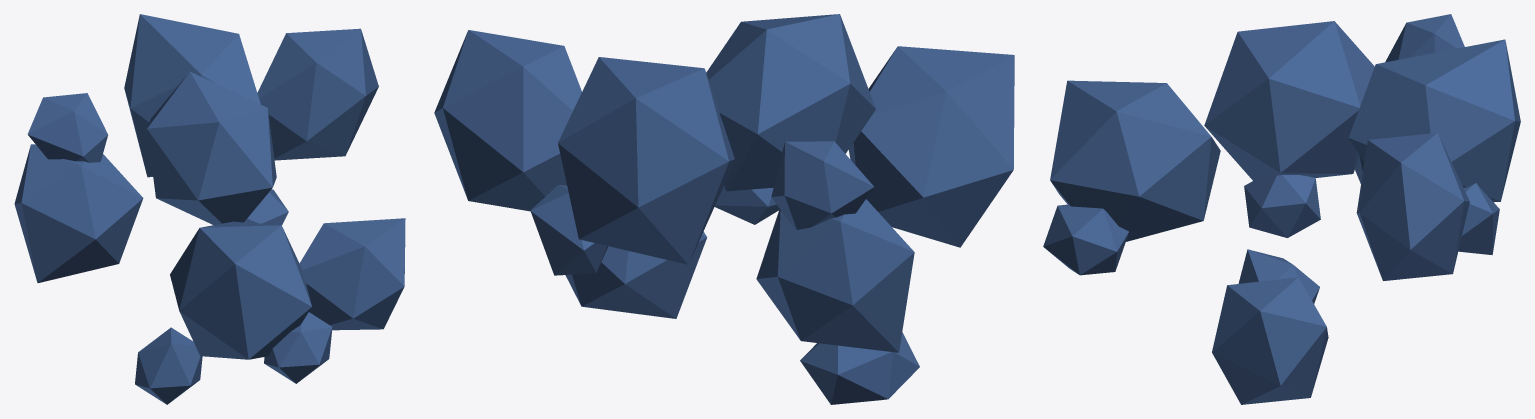
Rendered from tree-winter-leaves-2-046.glb.
3 views of the same model, side by side, from view 1: azimuth 30°, elevation 25°; view 2: azimuth 150°, elevation 25°; view 3: azimuth 270°, elevation 25° (orthographic). The views are drawn at different scales.
Visible parts, largest first — view 1: TREE 2.005_197; view 2: TREE 2.005_197; view 3: TREE 2.005_197.
Part boxes in pixels (x1,y1,x2,y2): TREE 2.005_197: (14,14,405,404); TREE 2.005_197: (434,14,1014,404); TREE 2.005_197: (1043,14,1520,404).
Size of the model in its own units: 1.39 by 1.08 by 1.39.
